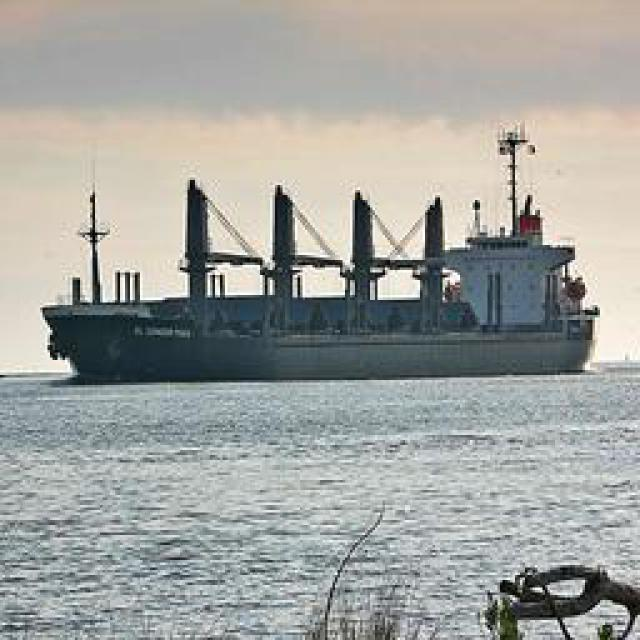Ship: (50, 135, 593, 383)
